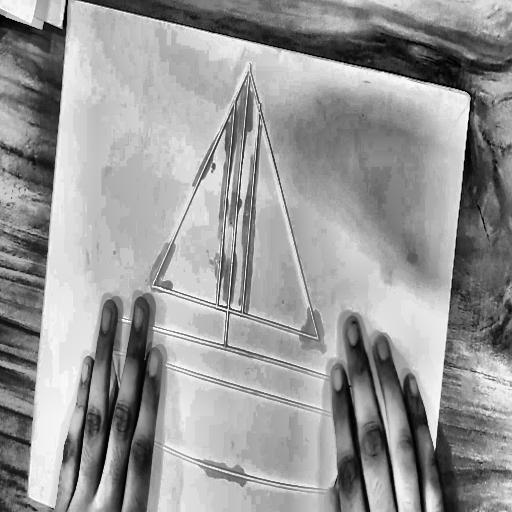boat: (84, 26, 405, 512)
bottom_left: (23, 484, 33, 501)
top_right: (465, 88, 475, 105)
